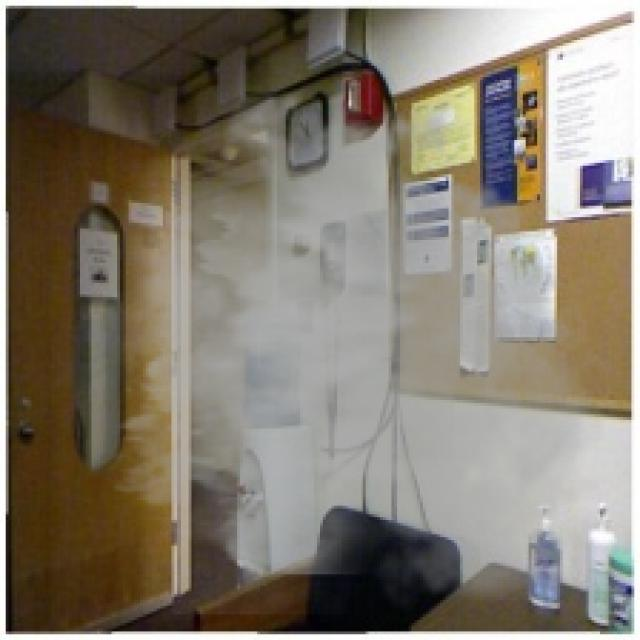smoke: (77, 75, 623, 614)
